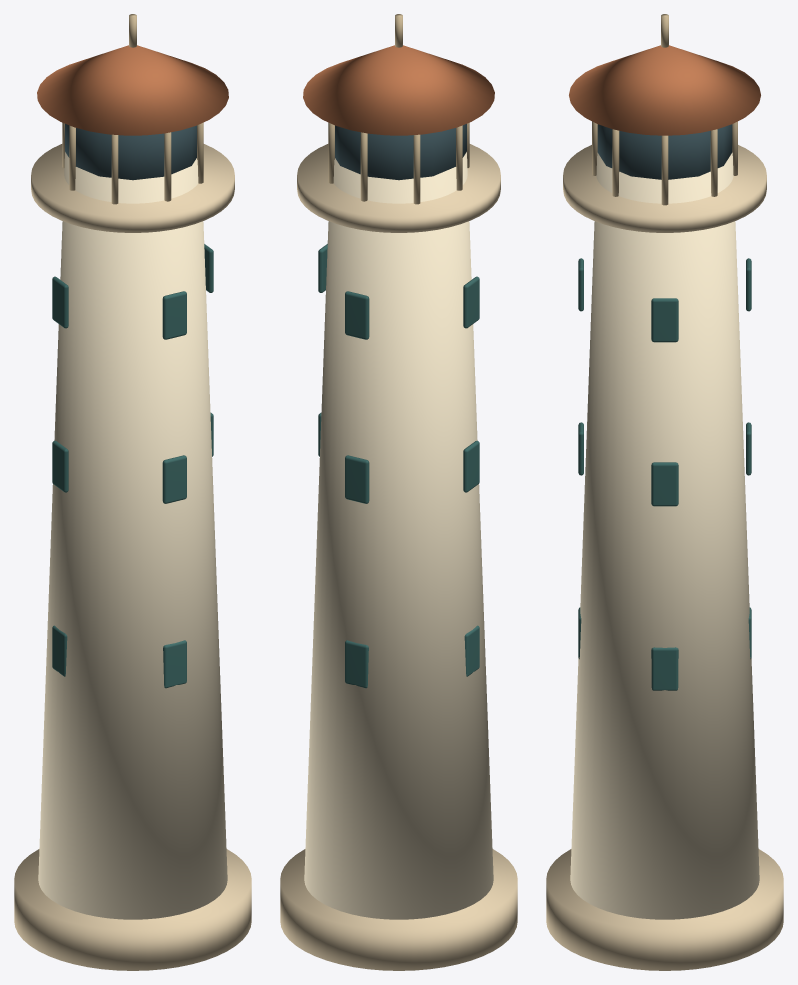
Rendered from lighthouse.glb.
The picture shows the model from 3 angles, left to right: view 1: azimuth 30°, elevation 25°; view 2: azimuth 150°, elevation 25°; view 3: azimuth 270°, elevation 25°; orthographic projection.
Visible parts, largest first — view 1: Lighthouse_tower, Tower_base, Lantern_roof, Lantern_balcony, Lantern_glass, Lighthouse_window.012, Lighthouse_window.008, Lighthouse_window.004, Lighthouse_window.011, Lighthouse_window.015, Lighthouse_window.007, Lantern_frame.005 (+1 smaller); view 2: Lighthouse_tower, Tower_base, Lantern_roof, Lantern_balcony, Lantern_glass, Lighthouse_window.014, Lighthouse_window.010, Lighthouse_window.006, Lighthouse_window.011, Lighthouse_window.015, Lighthouse_window.007, Lantern_frame.003 (+1 smaller); view 3: Lighthouse_tower, Tower_base, Lantern_roof, Lantern_balcony, Lantern_glass, Lighthouse_window.009, Lighthouse_window.013, Lighthouse_window.005, Lantern_frame.
Boxes of the visible parts, left/top/right/bottom form: Lighthouse_tower: left=38, top=152, right=227, bottom=919; Tower_base: left=14, top=849, right=251, bottom=970; Lantern_roof: left=37, top=45, right=228, bottom=135; Lantern_balcony: left=31, top=144, right=234, bottom=232; Lantern_glass: left=65, top=124, right=196, bottom=180; Lighthouse_window.012: left=162, top=291, right=186, bottom=339; Lighthouse_window.008: left=162, top=455, right=186, bottom=503; Lighthouse_window.004: left=163, top=640, right=186, bottom=688; Lighthouse_window.011: left=52, top=440, right=68, bottom=492; Lighthouse_window.015: left=52, top=276, right=68, bottom=328; Lighthouse_window.007: left=52, top=625, right=67, bottom=676; Lantern_frame.005: left=111, top=134, right=118, bottom=204; Lighthouse_tower: left=304, top=152, right=493, bottom=919; Tower_base: left=280, top=849, right=517, bottom=970; Lantern_roof: left=303, top=45, right=494, bottom=135; Lantern_balcony: left=297, top=144, right=500, bottom=232; Lantern_glass: left=335, top=124, right=466, bottom=180; Lighthouse_window.014: left=345, top=291, right=369, bottom=339; Lighthouse_window.010: left=345, top=455, right=369, bottom=503; Lighthouse_window.006: left=345, top=640, right=368, bottom=688; Lighthouse_window.011: left=463, top=440, right=479, bottom=492; Lighthouse_window.015: left=463, top=276, right=479, bottom=328; Lighthouse_window.007: left=464, top=625, right=479, bottom=676; Lantern_frame.003: left=413, top=134, right=420, bottom=204; Lighthouse_tower: left=570, top=152, right=759, bottom=919; Tower_base: left=546, top=849, right=783, bottom=970; Lantern_roof: left=569, top=45, right=760, bottom=135; Lantern_balcony: left=563, top=145, right=766, bottom=232; Lantern_glass: left=597, top=124, right=732, bottom=179; Lighthouse_window.009: left=651, top=462, right=678, bottom=506; Lighthouse_window.013: left=651, top=298, right=678, bottom=342; Lighthouse_window.005: left=651, top=647, right=678, bottom=690; Lantern_frame: left=661, top=135, right=668, bottom=205.
Bounding box in the file's own units: 4.2 × 17.65 × 4.2.
